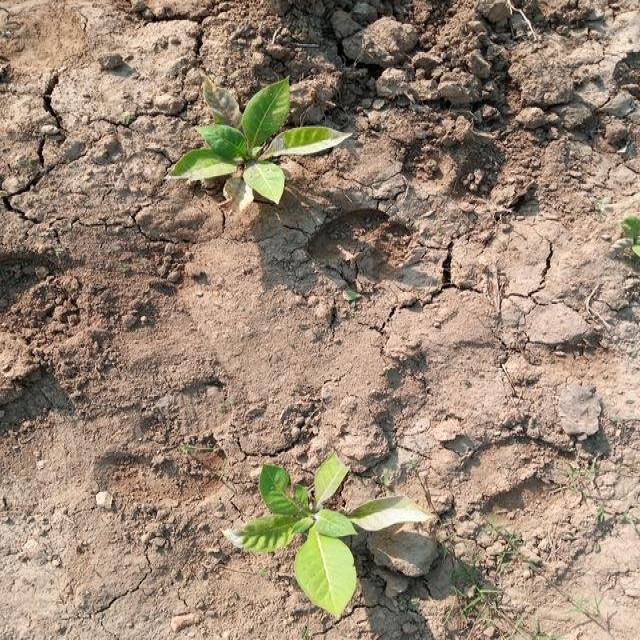crop: (238, 452, 432, 614), (184, 78, 347, 200)
